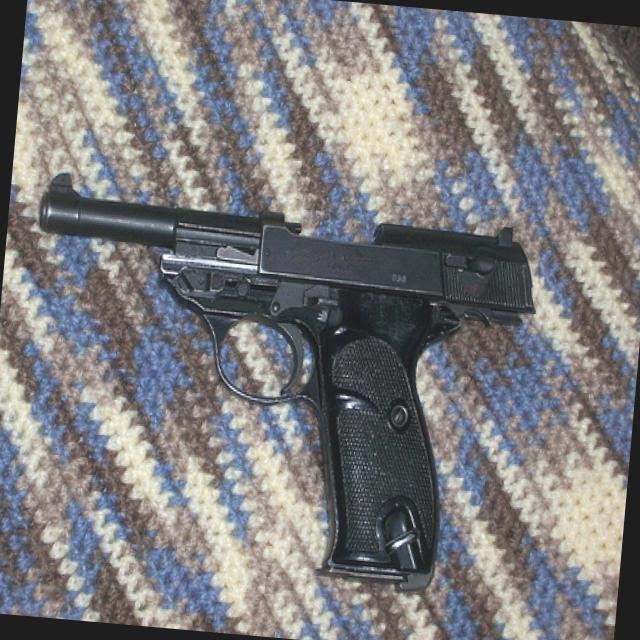handgun: (7, 166, 544, 600)
